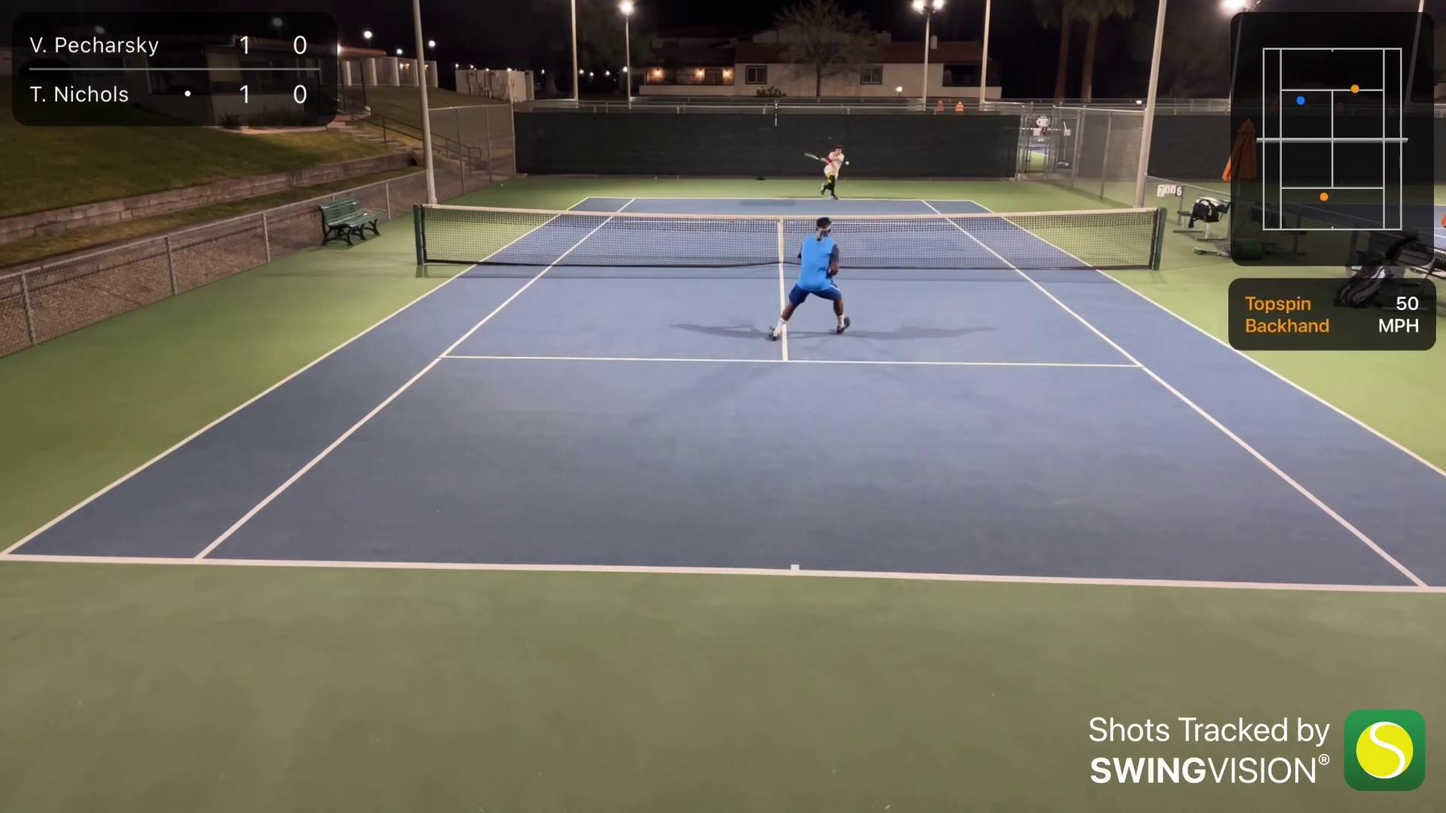ball: (845, 161, 850, 167)
